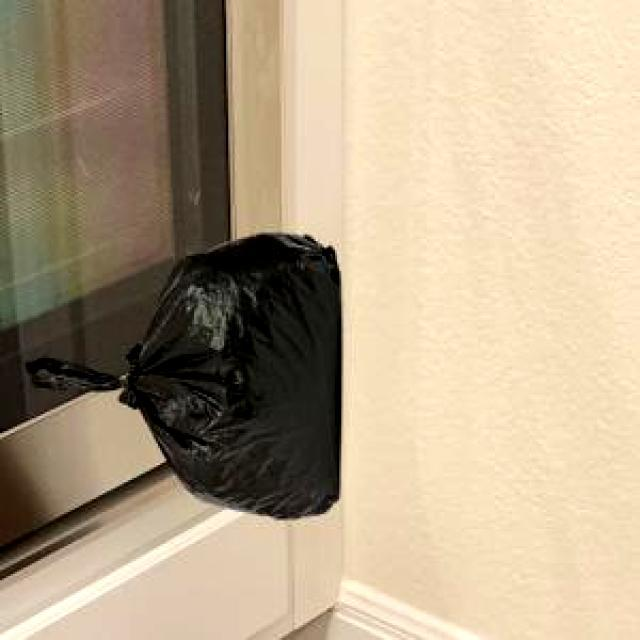Garbage_Bag: (22, 232, 338, 516)
